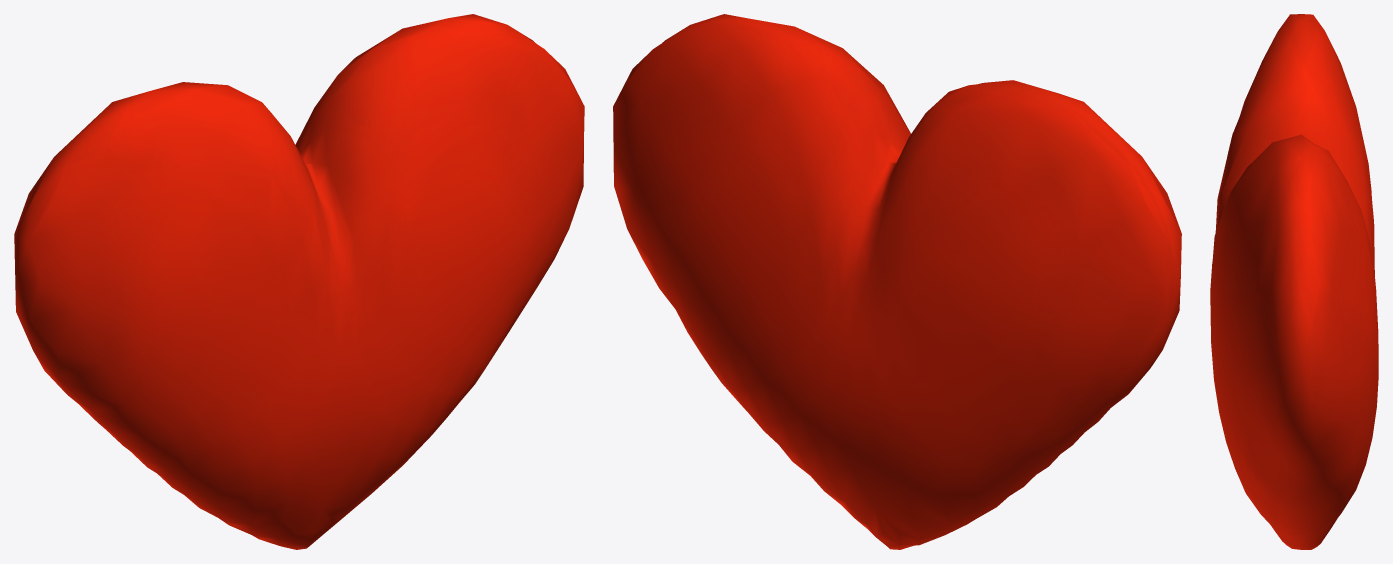
Rendered from obj_outroHeart.obj.
3 renders of one model, left to right at view 1: azimuth 30°, elevation 25°; view 2: azimuth 150°, elevation 25°; view 3: azimuth 270°, elevation 25°, orthographic. The views are drawn at different scales.
Visible parts, largest first — view 1: Cube_Cube.002; view 2: Cube_Cube.002; view 3: Cube_Cube.002.
Part boxes in pixels (x1,y1,x2,y2): Cube_Cube.002: [14, 14, 584, 549]; Cube_Cube.002: [613, 14, 1181, 549]; Cube_Cube.002: [1210, 14, 1378, 549].
Bounding box in the file's own units: 7.39 × 6.12 × 2.03.
1 material, 1 textured.
